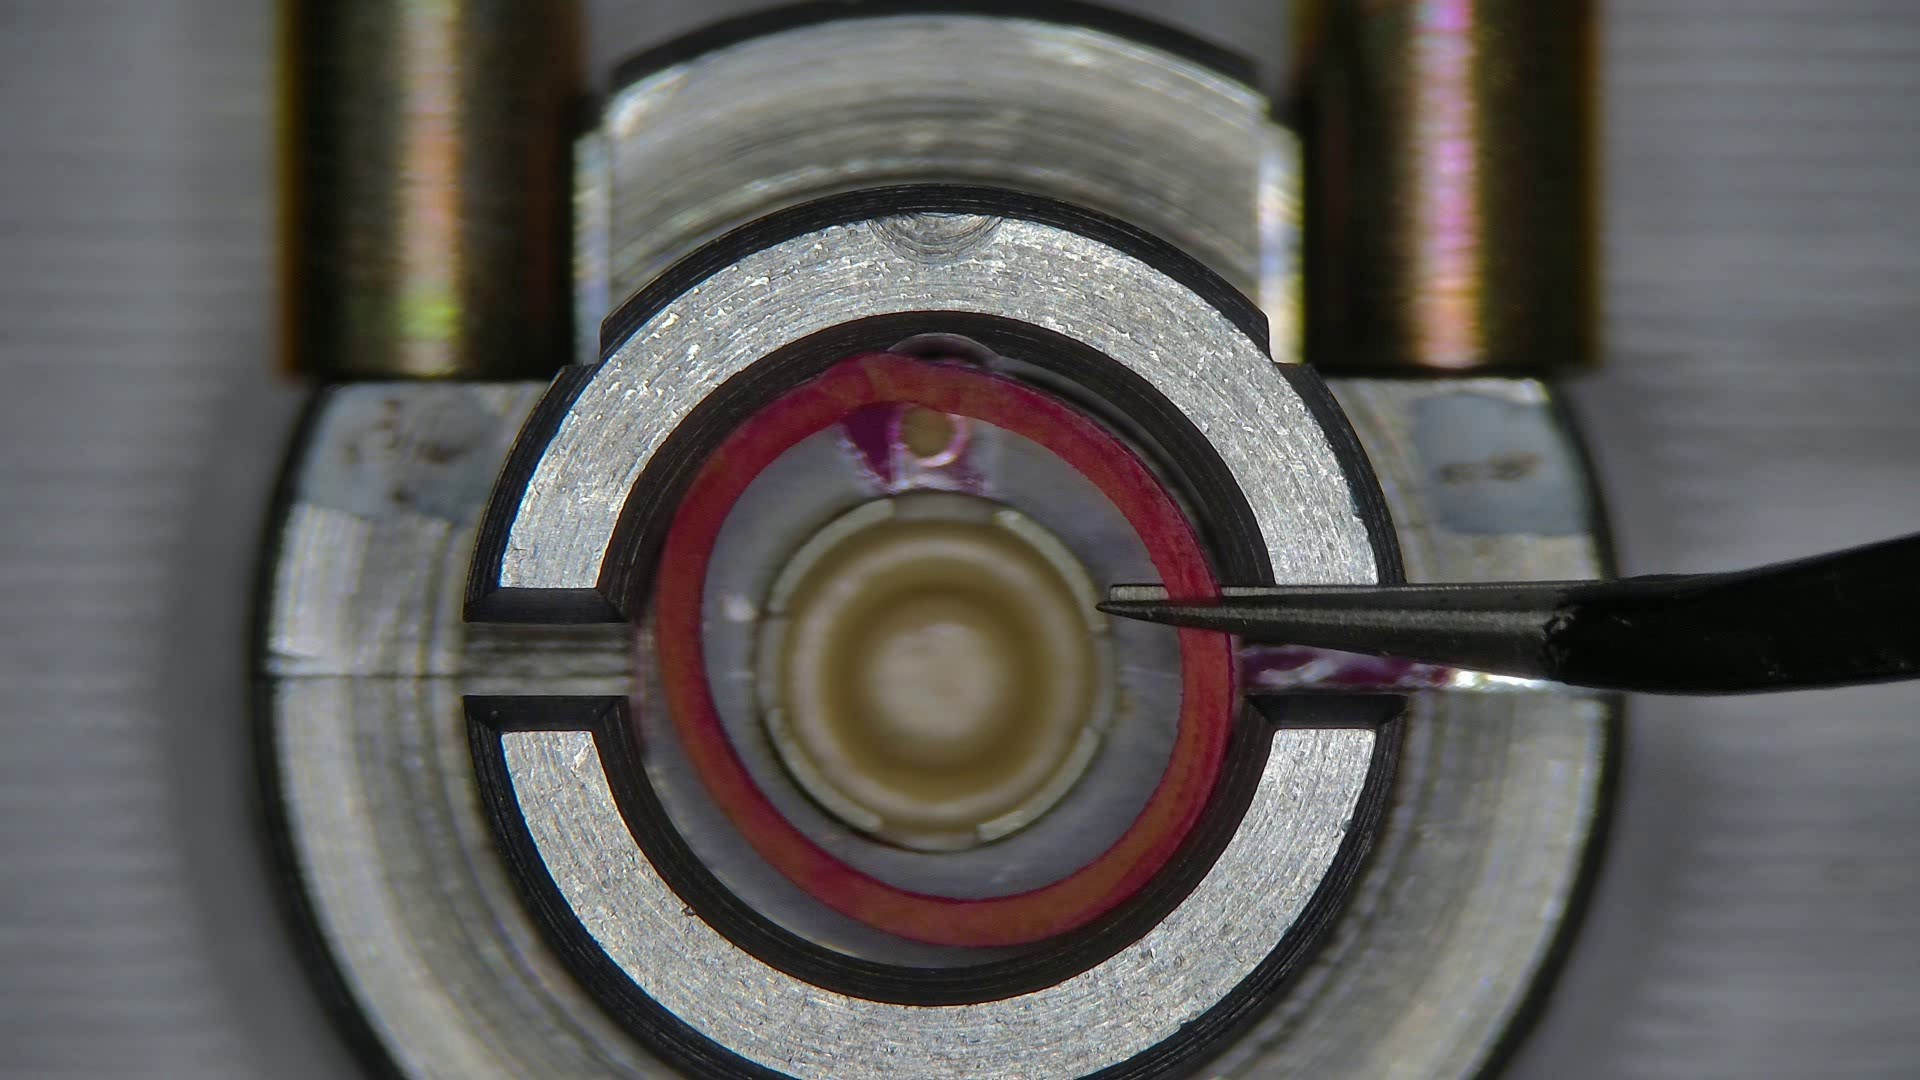GreyOring: (651, 353, 1229, 948)
YellowOring: (698, 406, 1180, 897), (630, 630, 996, 971)
